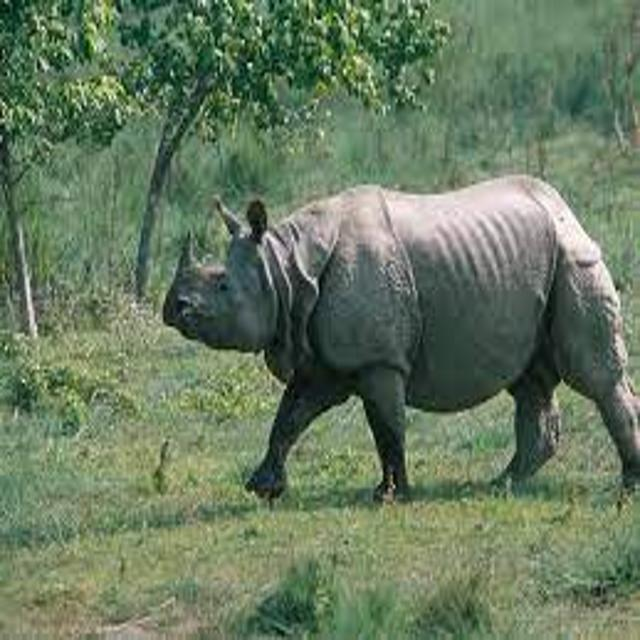Rinoceros: (168, 188, 640, 540)
